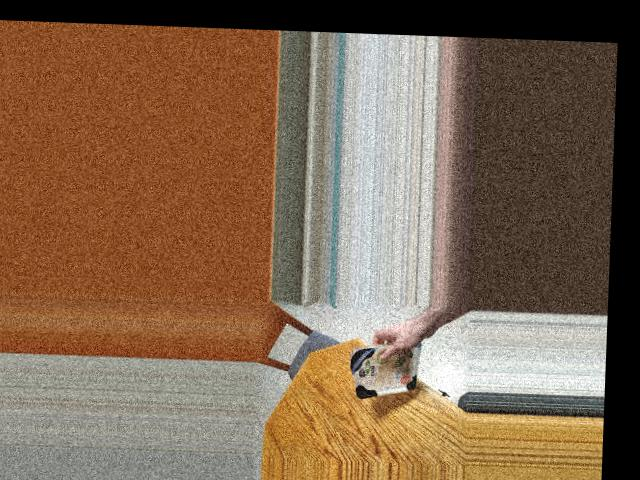cheese: (345, 342, 430, 395)
